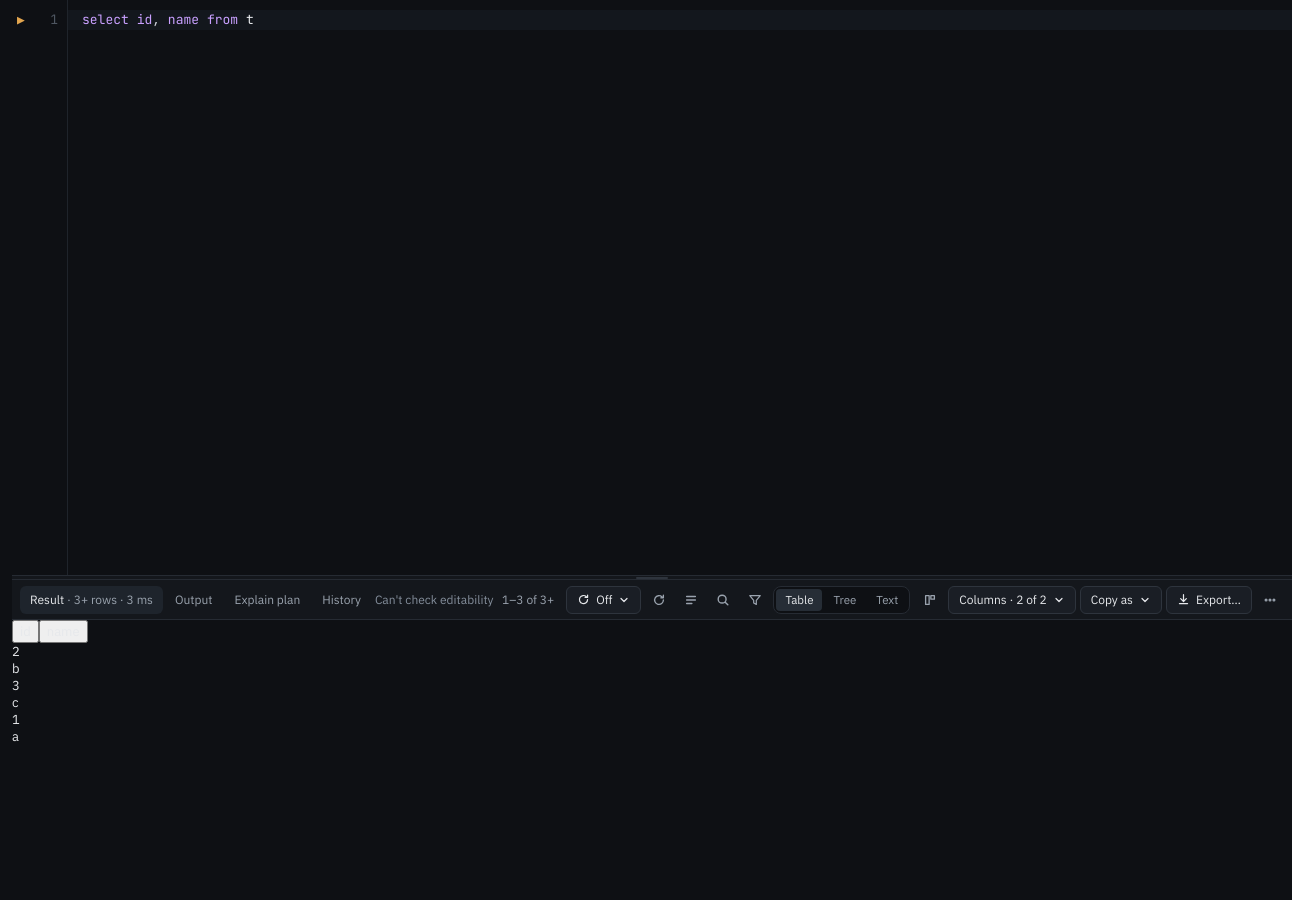
Test: sorting loaded rows › says the sort covers only the loaded rows when the server has more (spec: data-grid › Client-side sort notice)
This screenshot has width=1292, height=900.
Expected: the table is shown, top-left (12, 620), bottom-right (88, 745)
Step 1. Click the column heading "name" → [63, 632], box top-left (39, 620), bottom-right (88, 643)
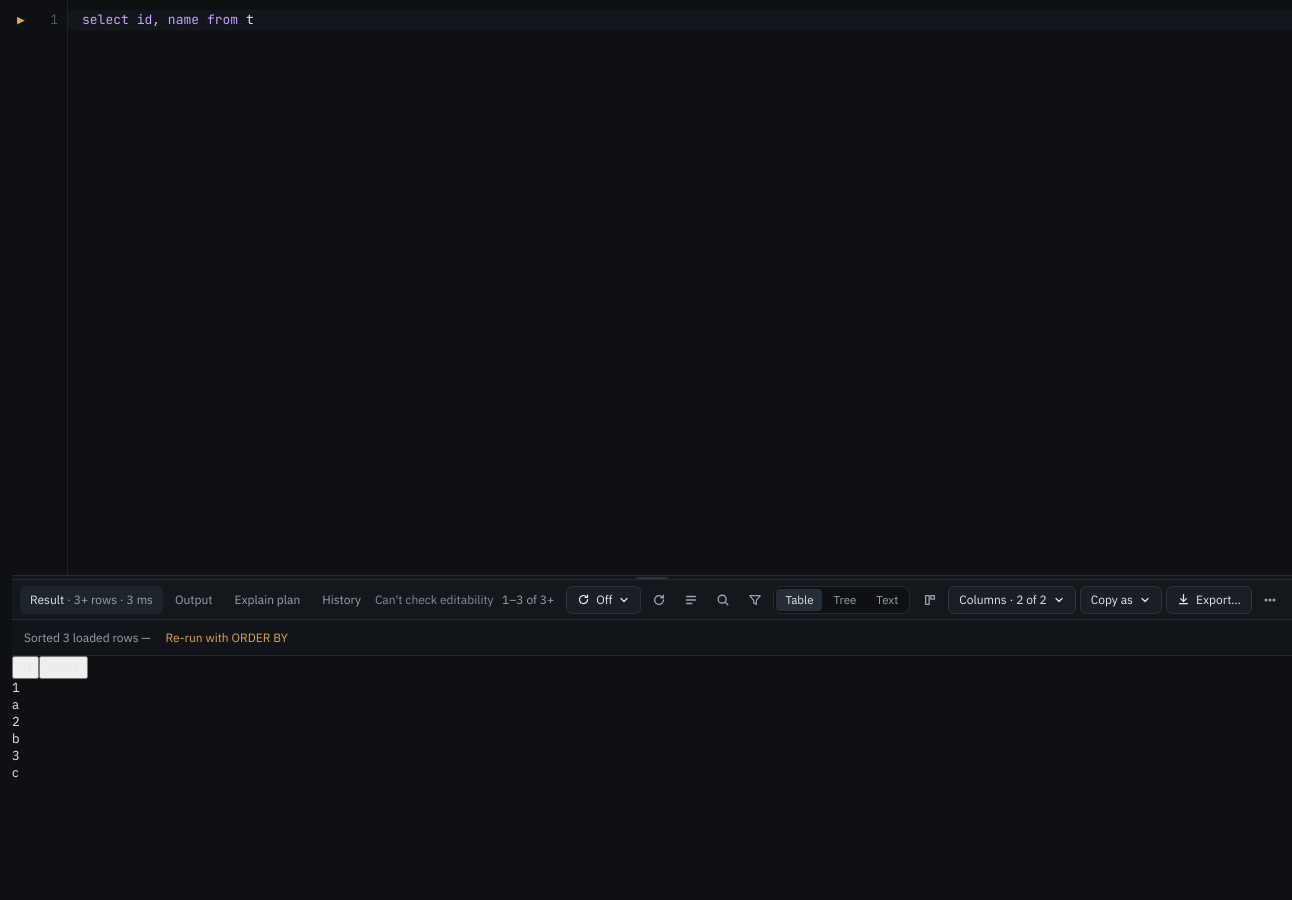
Now the text "Sorted 3 loaded rows — Re-run with ORDER BY" is shown, box top-left (12, 620), bottom-right (1291, 656)
Now the button "Re-run with ORDER BY" is shown, box top-left (166, 630), bottom-right (288, 645)
